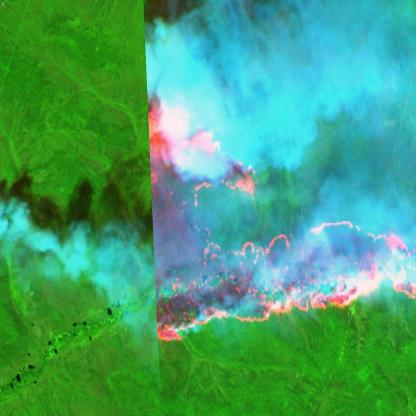fire: (143, 101, 416, 346)
